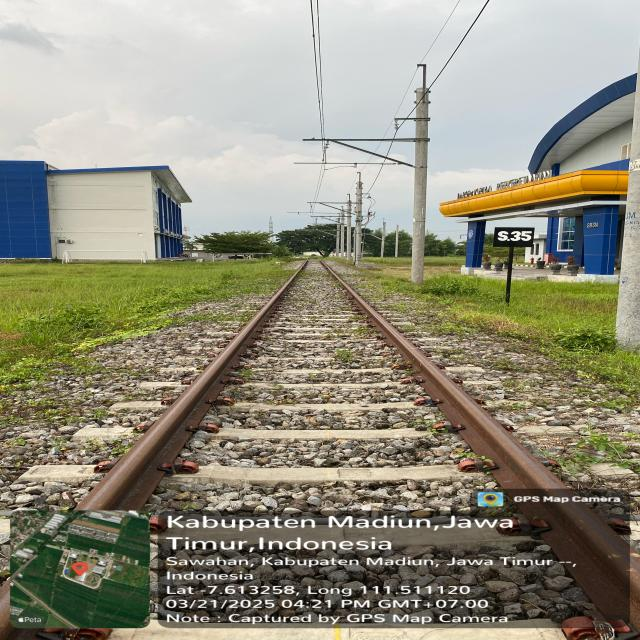rail-detection: (78, 261, 308, 510), (320, 261, 556, 487)
